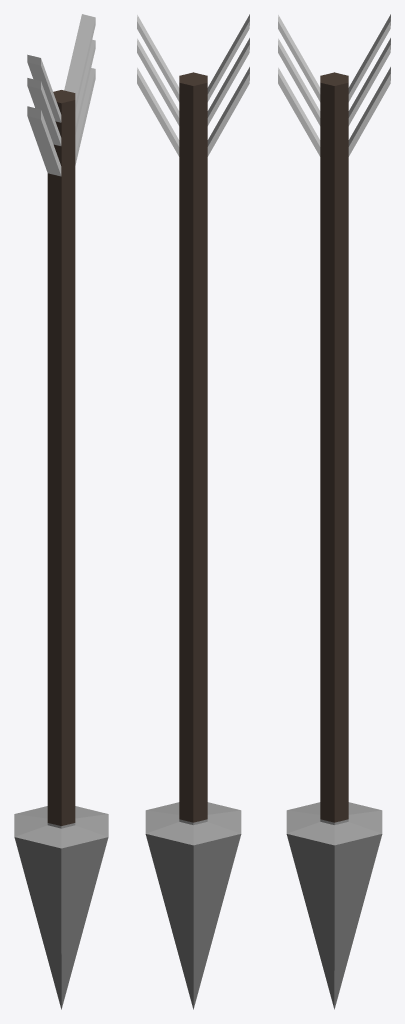
The model's file is arrow.fbx.
3 renders of one model, left to right at view 1: azimuth 30°, elevation 25°; view 2: azimuth 150°, elevation 25°; view 3: azimuth 330°, elevation 25°, orthographic.
Visible parts, largest first — view 1: arrow; view 2: arrow; view 3: arrow.
Part boxes in pixels (x1,y1,x2,y2): arrow: [14, 14, 108, 1009]; arrow: [137, 14, 249, 1009]; arrow: [278, 14, 390, 1009].
Size of the model in its own units: 6.81 by 67.36 by 5.9.
